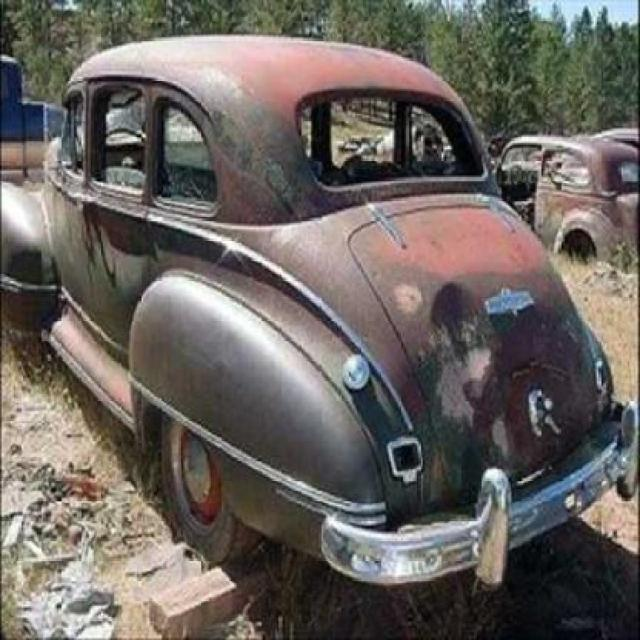corrosion: (60, 37, 631, 549)
